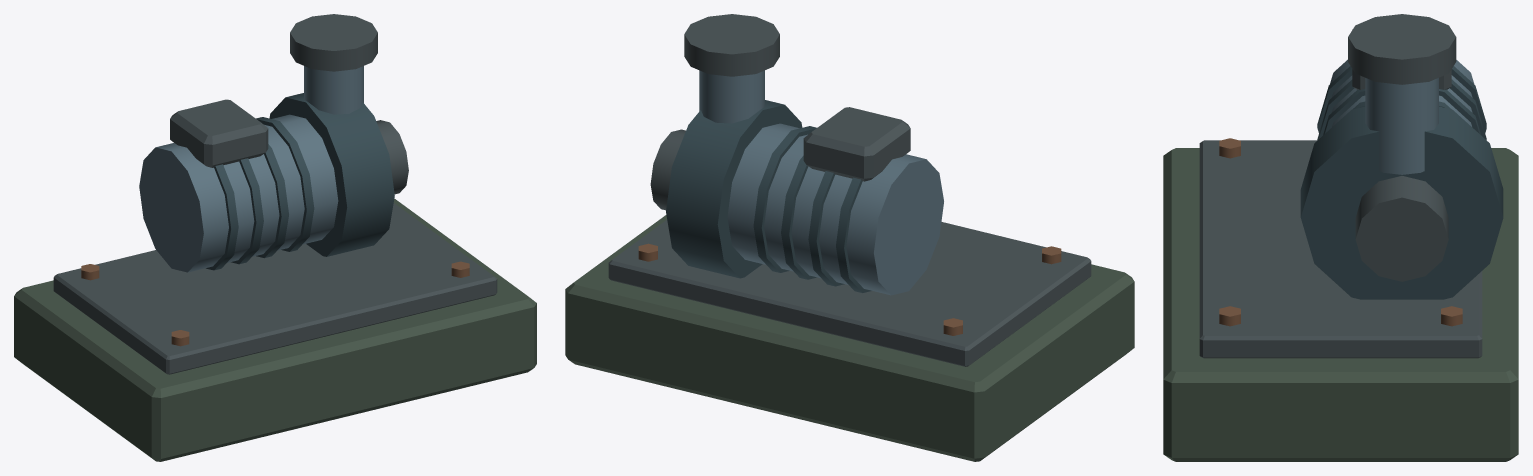
File: L02_PumpBaseAndDrive.fbx
3 renders of one model, left to right at view 1: azimuth 30°, elevation 25°; view 2: azimuth 150°, elevation 25°; view 3: azimuth 270°, elevation 25°, orthographic. The views are drawn at different scales.
Parts seen in each view (by area): view 1: L02_PumpBaseAndDrive; view 2: L02_PumpBaseAndDrive; view 3: L02_PumpBaseAndDrive.
Boxes of the visible parts, x1,y1,x2,y2 form: L02_PumpBaseAndDrive: (14,14,536,461); L02_PumpBaseAndDrive: (565,14,1134,461); L02_PumpBaseAndDrive: (1163,14,1518,461).
Bounding box in the file's own units: 1.43 × 1.05 × 0.93.
